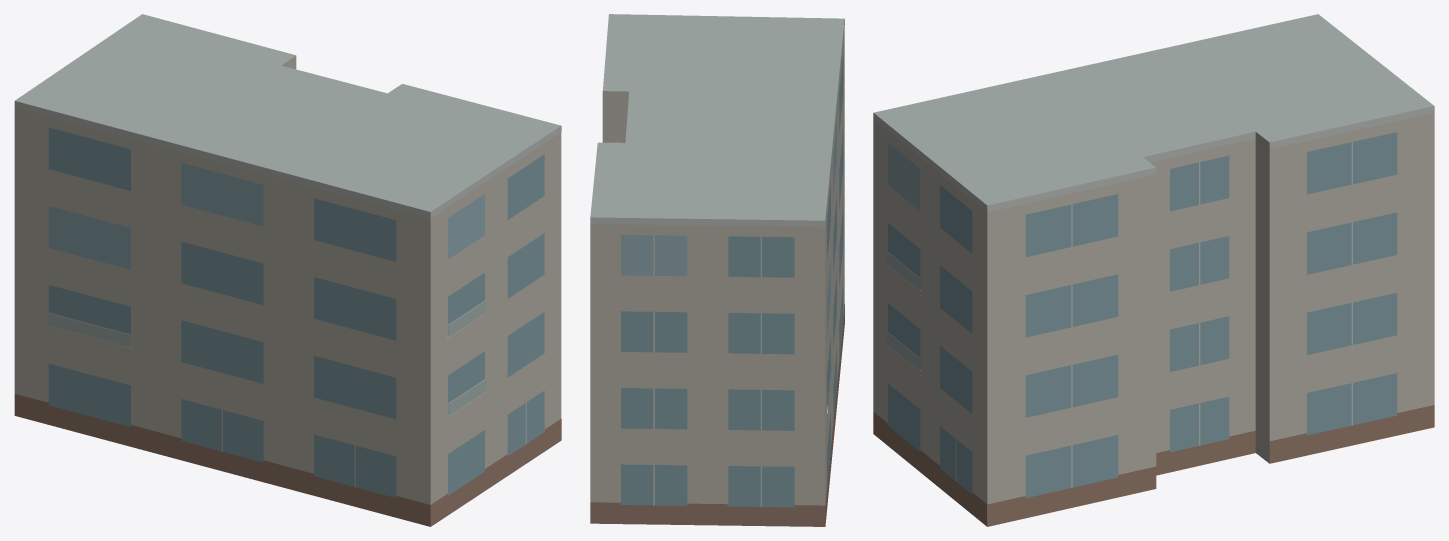
Rendered from survey-upis-32842057.glb.
3 views of the same model, side by side, from view 1: azimuth 30°, elevation 25°; view 2: azimuth 150°, elevation 25°; view 3: azimuth 270°, elevation 25° (orthographic). The views are drawn at different scales.
Parts seen in each view (by area): view 1: survey-upis-32842057.tmp; view 2: survey-upis-32842057.tmp; view 3: survey-upis-32842057.tmp.
Boxes of the visible parts, box(x1,y1,x2,y2) form: survey-upis-32842057.tmp: box(14, 14, 561, 526); survey-upis-32842057.tmp: box(590, 14, 844, 526); survey-upis-32842057.tmp: box(873, 14, 1434, 526).
Bounding box in the file's own units: 14.71 × 11.5 × 18.21.
